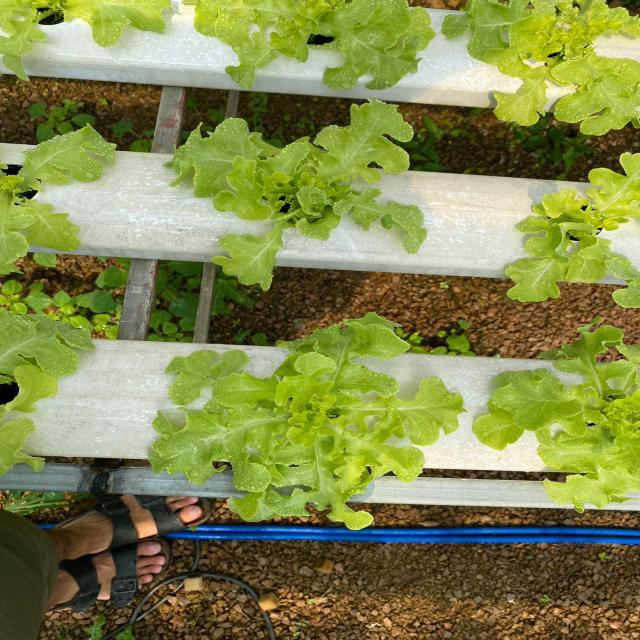Lettuce-Not-Ready-to-Harvest: (151, 316, 462, 528), (171, 101, 426, 288), (474, 326, 640, 508), (444, 0, 640, 135), (195, 0, 431, 88), (506, 154, 640, 307), (0, 128, 111, 273), (0, 311, 90, 471), (0, 0, 170, 71)
